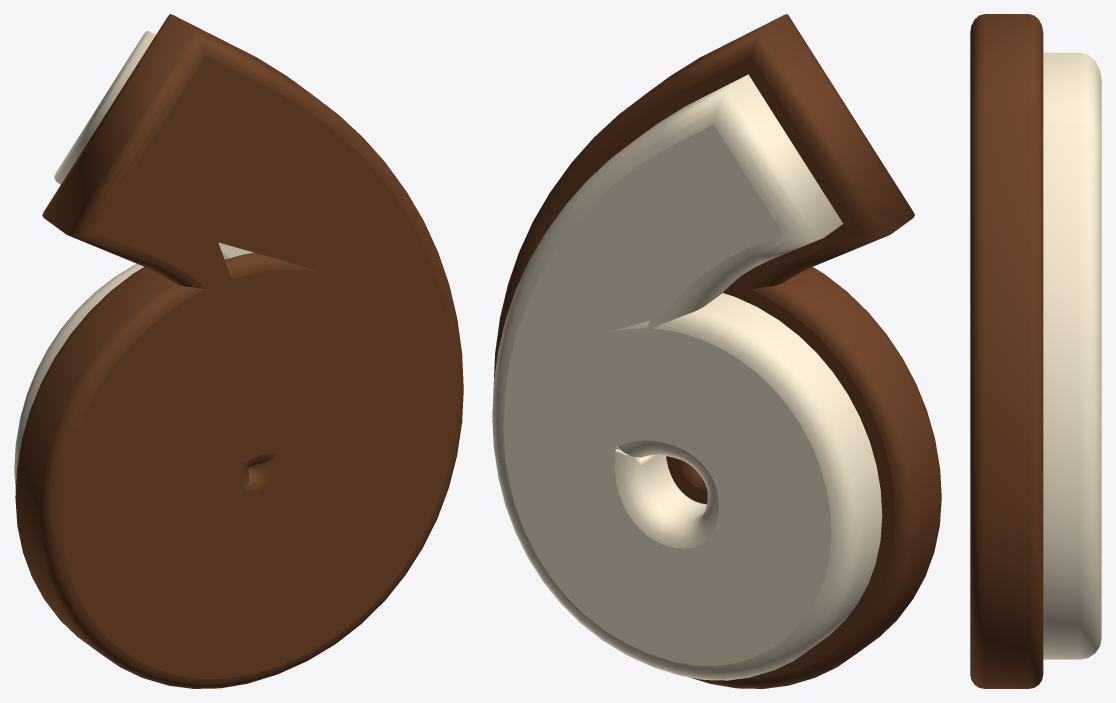
File: Digit_6.fbx
The picture shows the model from 3 angles, left to right: view 1: azimuth 30°, elevation 25°; view 2: azimuth 150°, elevation 25°; view 3: azimuth 270°, elevation 25°; orthographic projection. The views are drawn at different scales.
Visible parts, largest first — view 1: Digit_6; view 2: Digit_6; view 3: Digit_6.
Boxes of the visible parts, left/top/right/bottom form: Digit_6: left=14, top=14, right=463, bottom=688; Digit_6: left=492, top=14, right=941, bottom=688; Digit_6: left=970, top=14, right=1101, bottom=688.
Bounding box in the file's own units: 0.6313 × 0.9491 × 0.18.
Materials: 1 (1 with a texture image).
